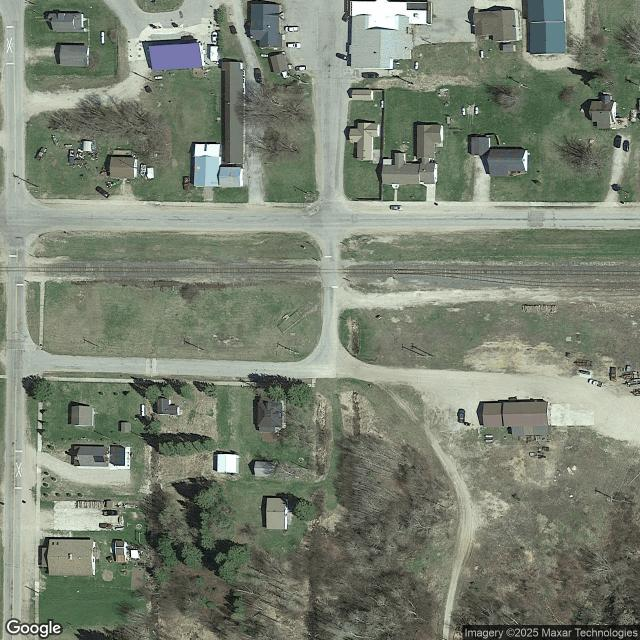Propane: (101, 31, 105, 45), (141, 404, 145, 416), (462, 108, 466, 116), (480, 51, 484, 59), (154, 76, 163, 79), (260, 54, 269, 57), (485, 435, 493, 438), (485, 439, 493, 442), (381, 100, 384, 108), (475, 107, 478, 115), (415, 62, 418, 70)
